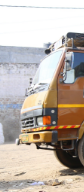truck: (15, 28, 84, 173)
